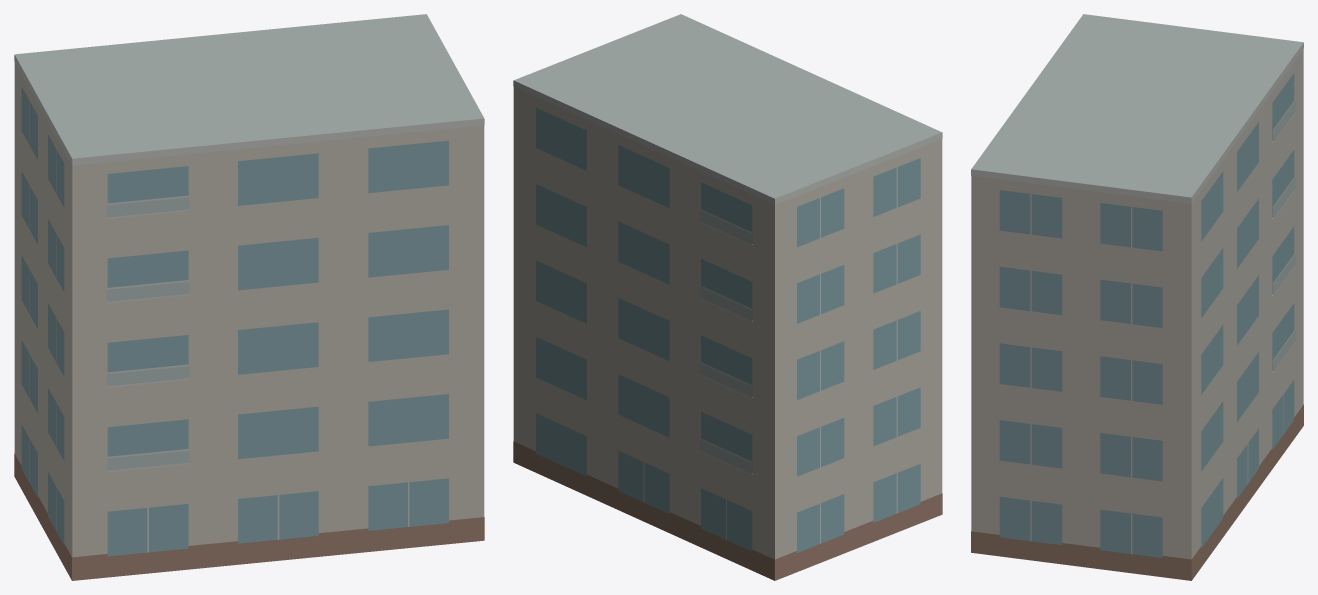
The model's file is survey-upis-32873688.glb.
The picture shows the model from 3 angles, left to right: view 1: azimuth 30°, elevation 25°; view 2: azimuth 150°, elevation 25°; view 3: azimuth 270°, elevation 25°; orthographic projection. The views are drawn at different scales.
Visible parts, largest first — view 1: survey-upis-32873688.tmp; view 2: survey-upis-32873688.tmp; view 3: survey-upis-32873688.tmp.
Part boxes in pixels (<box>): survey-upis-32873688.tmp: <box>14,14,484,580</box>; survey-upis-32873688.tmp: <box>513,14,942,580</box>; survey-upis-32873688.tmp: <box>971,14,1303,580</box>.
Bounding box in the file's own units: 15.15 × 14.75 × 11.61.
